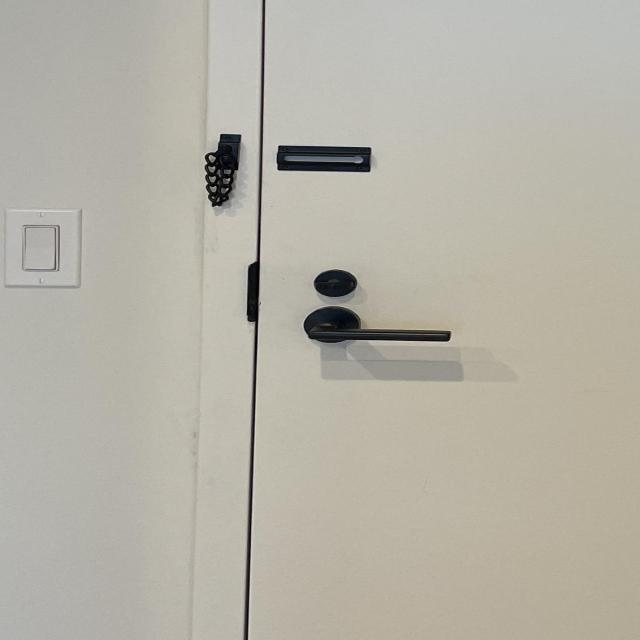door_handle: (297, 307, 460, 357)
